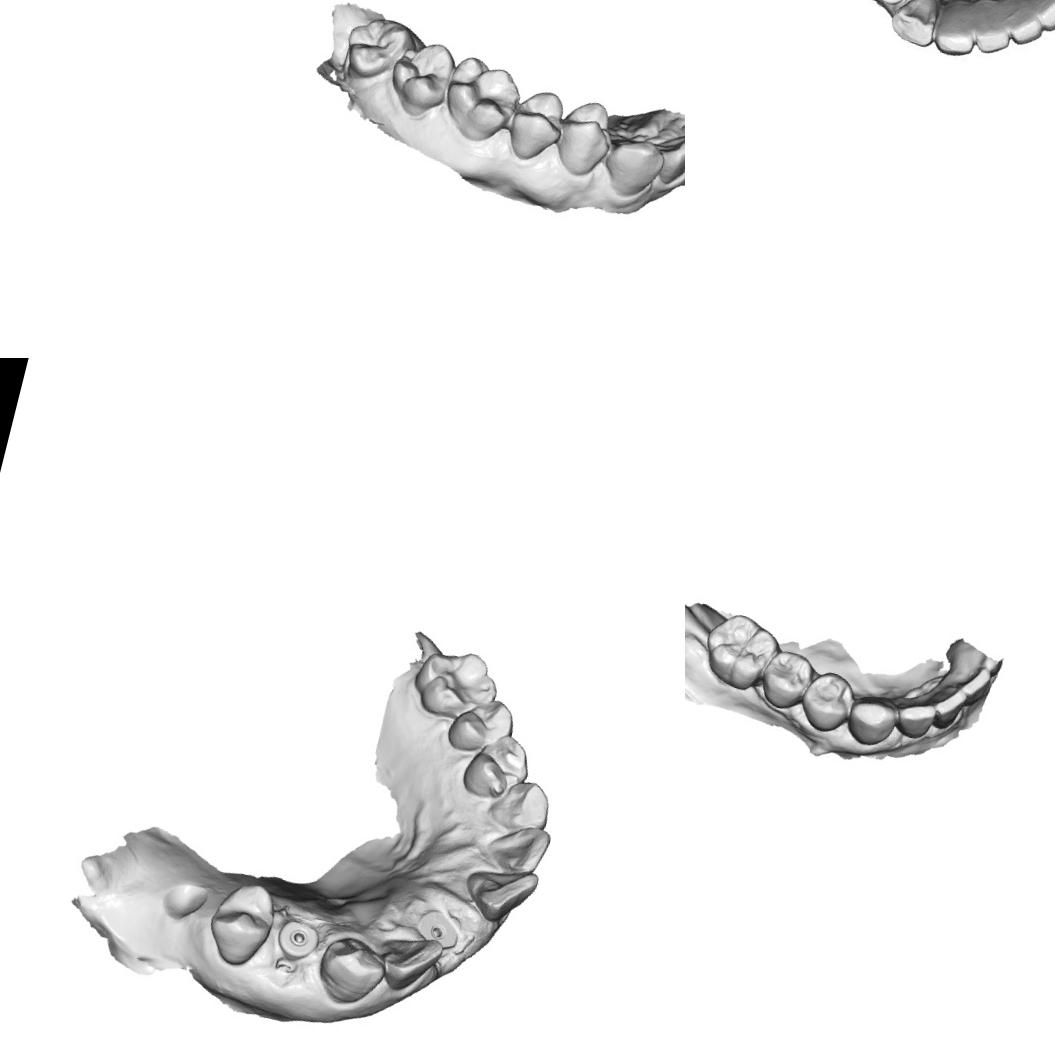canine: (311, 926, 393, 1012), (596, 130, 668, 204), (488, 772, 556, 836), (841, 688, 903, 752), (884, 0, 947, 50)
implant: (414, 904, 470, 961), (270, 910, 326, 967), (866, 0, 912, 9)
incisor: (455, 856, 545, 930), (374, 926, 446, 996), (483, 814, 554, 880), (931, 0, 987, 59), (964, 0, 1019, 57), (942, 659, 992, 710), (885, 694, 938, 742), (922, 681, 970, 734), (996, 0, 1049, 45), (651, 123, 685, 190), (1017, 0, 1055, 30)
molar: (405, 638, 508, 728), (437, 51, 527, 149), (695, 606, 785, 697), (380, 32, 460, 125), (337, 10, 422, 88)
premolar: (198, 872, 286, 976), (459, 725, 538, 806), (549, 92, 620, 182), (442, 681, 520, 762), (502, 83, 570, 170), (793, 666, 858, 738), (754, 644, 816, 715)
